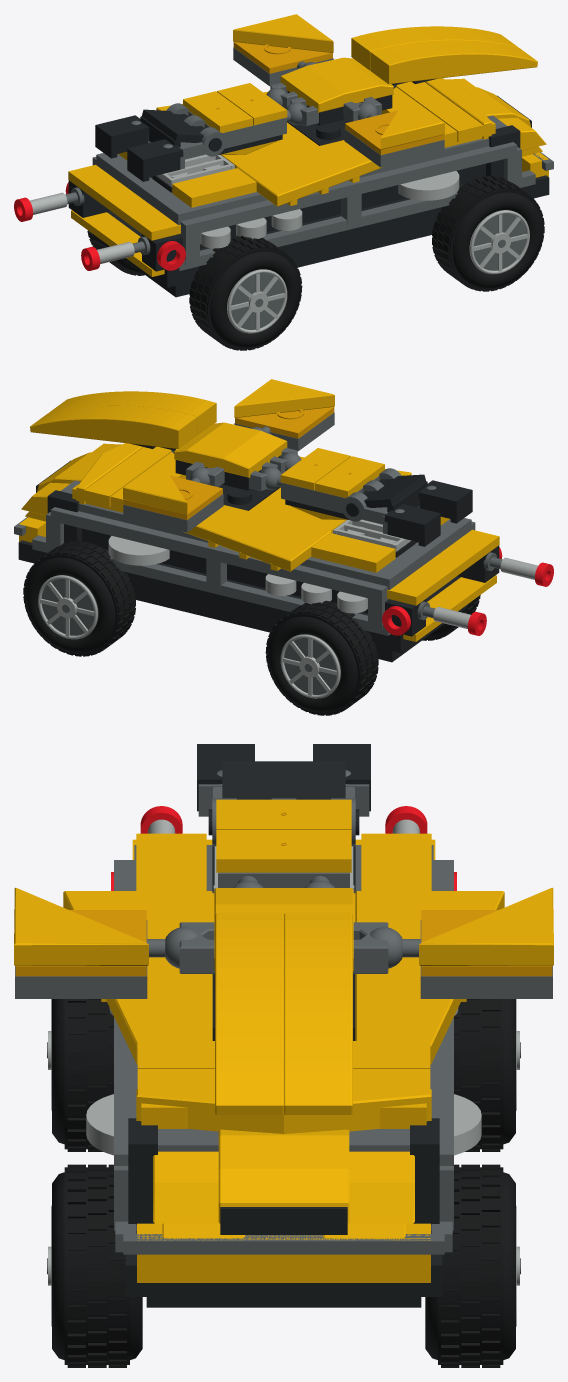
Rendered from mechanical-pterosaur.glb.
3 renders of one model, top to bottom at view 1: azimuth 30°, elevation 25°; view 2: azimuth 150°, elevation 25°; view 3: azimuth 270°, elevation 25°, orthographic. The views are drawn at different scales.
Visible parts, largest first — view 1: Smooth curved beak tile (×2), Rounded tire sidewall (×2), Brick (×6), Upper side rail, Fixed trapezoid roof panel, Baked tread blocks (×2), Raised triangular wing face (×2), Deck supporting plate, Rounded chest surface, Lower chassis, Rear upper bumper, Individual lower torso tile (×2) (+27 smaller); view 2: Smooth curved beak tile (×2), Rounded tire sidewall (×2), Brick (×6), Upper side rail, Fixed trapezoid roof panel, Baked tread blocks (×2), Raised triangular wing face (×2), Deck supporting plate, Rounded chest surface, Lower chassis, Rear upper bumper, Individual lower torso tile (×2) (+27 smaller); view 3: Baked tread blocks (×4), Smooth curved beak tile (×2), Fixed trapezoid roof panel (×2), Raised triangular wing face (×2), Rubber tire (×4), Brick (×6), Raised centre nose, Individual lower torso tile (×2), Rounded tire sidewall (×6), Front yellow fascia, Split front hood (×2), Rear yellow deck rail (×2) (+17 smaller).
Part boxes in pixels (<box>): Smooth curved beak tile (×2): <box>351,26,537,84</box>; Rounded tire sidewall (×2): <box>210,192,542,347</box>; Brick (×6): <box>200,125,520,248</box>; Upper side rail: <box>180,142,517,236</box>; Fixed trapezoid roof panel: <box>236,140,383,206</box>; Baked tread blocks (×2): <box>189,176,544,350</box>; Raised triangular wing face (×2): <box>233,14,444,149</box>; Deck supporting plate: <box>96,115,507,224</box>; Rounded chest surface: <box>280,57,393,112</box>; Lower chassis: <box>107,175,549,287</box>; Rear upper bumper: <box>68,164,180,240</box>; Individual lower torso tile (×2): <box>183,83,287,133</box>; Smooth curved beak tile (×2): <box>30,391,216,449</box>; Rounded tire sidewall (×2): <box>25,557,357,712</box>; Brick (×6): <box>47,490,367,613</box>; Upper side rail: <box>50,507,387,601</box>; Fixed trapezoid roof panel: <box>183,505,331,571</box>; Baked tread blocks (×2): <box>23,541,378,715</box>; Raised triangular wing face (×2): <box>123,379,334,514</box>; Deck supporting plate: <box>60,480,471,589</box>; Rounded chest surface: <box>174,422,287,477</box>; Lower chassis: <box>18,540,460,652</box>; Rear upper bumper: <box>387,529,499,605</box>; Individual lower torso tile (×2): <box>280,448,384,498</box>; Baked tread blocks (×4): <box>67,999,500,1367</box>; Smooth curved beak tile (×2): <box>215,912,352,1114</box>; Fixed trapezoid roof panel (×2): <box>63,891,504,1064</box>; Raised triangular wing face (×2): <box>14,887,553,965</box>; Rubber tire (×4): <box>64,999,503,1364</box>; Brick (×6): <box>86,1094,481,1224</box>; Raised centre nose: <box>218,1129,349,1223</box>; Individual lower torso tile (×2): <box>216,799,351,872</box>; Rounded tire sidewall (×6): <box>52,999,515,1359</box>; Front yellow fascia: <box>137,1223,430,1282</box>; Split front hood (×2): <box>153,1151,414,1223</box>; Rear yellow deck rail (×2): <box>136,833,431,890</box>.
Bounding box in the file's own units: 7.94 × 3.45 × 4.37.
